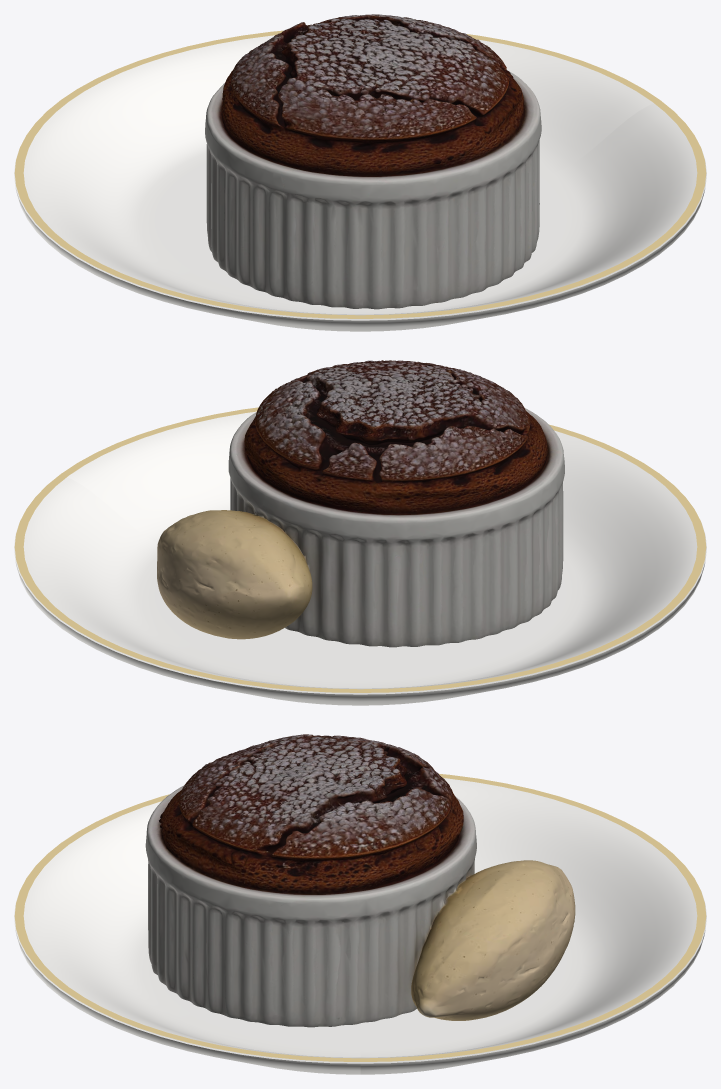
File: souffle.glb
3 renders of one model, top to bottom at view 1: azimuth 30°, elevation 25°; view 2: azimuth 150°, elevation 25°; view 3: azimuth 270°, elevation 25°, orthographic.
Visible parts, largest first — view 1: tripo_node_8d61e162-acef-4682-a8f2-90895a32bec9, dish; view 2: tripo_node_8d61e162-acef-4682-a8f2-90895a32bec9, dish; view 3: tripo_node_8d61e162-acef-4682-a8f2-90895a32bec9, dish.
Part boxes in pixels (x1=…): tripo_node_8d61e162-acef-4682-a8f2-90895a32bec9: x1=205, y1=14, x2=541, y2=309; dish: x1=14, y1=30, x2=706, y2=331; tripo_node_8d61e162-acef-4682-a8f2-90895a32bec9: x1=157, y1=360, x2=564, y2=647; dish: x1=14, y1=407, x2=706, y2=705; tripo_node_8d61e162-acef-4682-a8f2-90895a32bec9: x1=145, y1=734, x2=575, y2=1027; dish: x1=14, y1=774, x2=706, y2=1074.
Size of the model in its own units: 0.24 by 0.08 by 0.24.
Materials: 4 (1 with a texture image).
